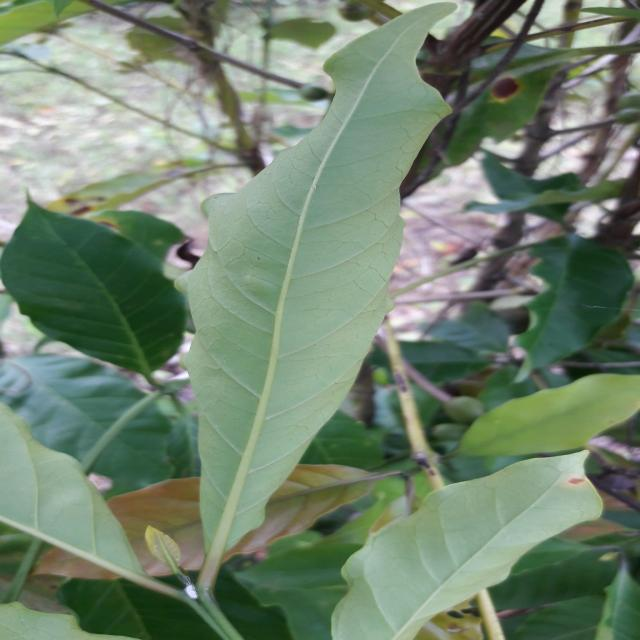Sanas: (174, 0, 459, 604)
